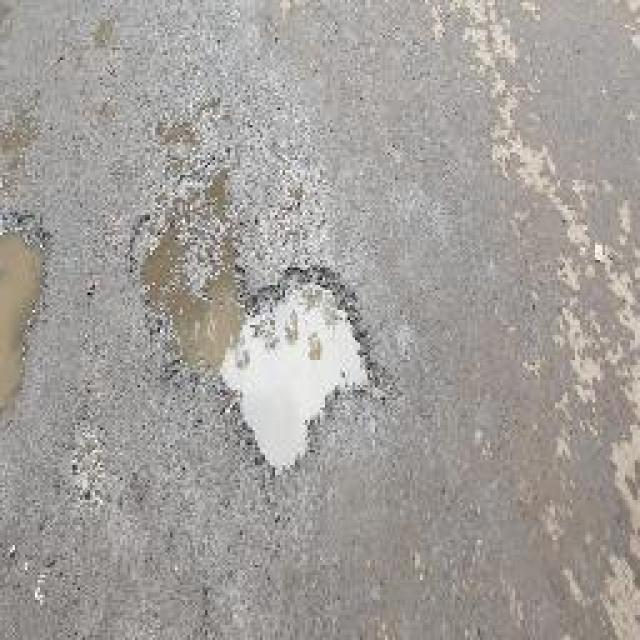stagnation: (129, 164, 391, 479)
